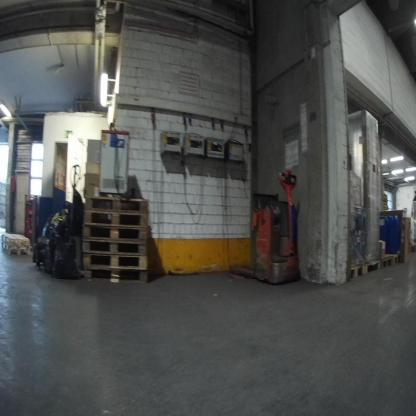pallet: (82, 192, 147, 214), (82, 210, 147, 230), (82, 223, 147, 242), (80, 266, 148, 284), (82, 252, 147, 270), (80, 238, 147, 254), (0, 240, 32, 256), (1, 232, 31, 246), (349, 264, 365, 282), (380, 255, 393, 270), (366, 261, 380, 273), (393, 252, 401, 265)
pallet_truck: (229, 168, 301, 287), (53, 165, 84, 278)
